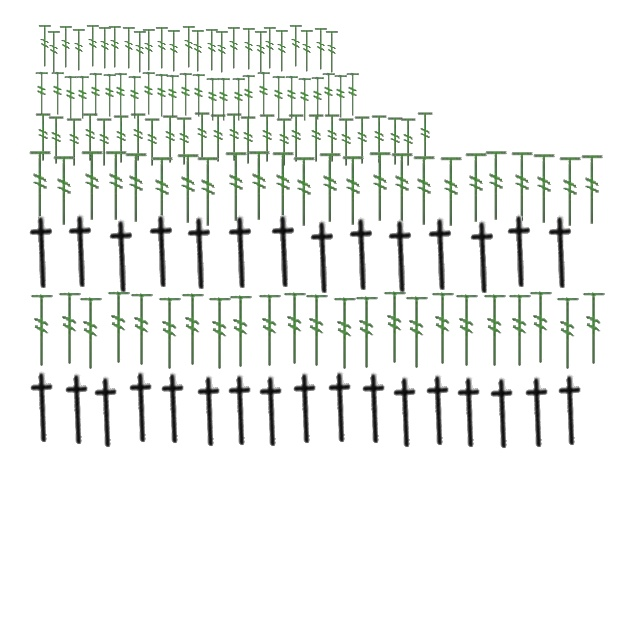enseble_chain: (60, 214, 104, 290), (302, 220, 346, 296), (462, 220, 506, 296), (220, 216, 264, 290), (380, 220, 424, 294), (420, 218, 464, 292), (540, 216, 584, 290), (142, 214, 184, 290), (180, 216, 222, 292), (264, 214, 306, 290), (500, 214, 542, 290), (22, 216, 64, 290), (102, 220, 144, 294), (342, 218, 384, 292), (86, 376, 128, 450), (153, 372, 195, 446), (220, 374, 262, 448), (285, 372, 327, 446), (354, 372, 396, 446), (385, 376, 427, 450), (418, 374, 460, 448), (449, 376, 491, 450), (517, 376, 559, 450), (550, 374, 592, 448), (22, 372, 64, 444), (57, 374, 99, 446), (121, 372, 163, 444), (189, 376, 231, 448), (251, 376, 293, 448), (320, 372, 362, 444), (482, 378, 524, 450)
fan: (77, 294, 105, 374), (105, 288, 133, 368), (128, 290, 156, 370), (156, 294, 184, 374), (179, 290, 207, 370), (206, 294, 234, 374), (227, 292, 255, 372), (331, 294, 359, 374), (381, 288, 409, 368), (527, 288, 555, 368), (554, 294, 582, 374), (28, 292, 56, 370), (56, 290, 84, 368), (256, 292, 284, 370), (281, 290, 309, 368), (303, 292, 331, 370), (353, 294, 381, 372), (403, 294, 431, 372), (429, 290, 457, 368), (453, 292, 481, 370), (481, 292, 509, 370), (506, 292, 534, 370), (580, 290, 608, 368), (270, 150, 298, 224), (340, 154, 368, 228), (246, 150, 274, 222), (438, 156, 466, 228), (52, 154, 78, 228), (176, 152, 202, 226), (224, 150, 250, 224), (368, 150, 394, 224), (412, 154, 438, 228), (510, 150, 536, 224), (532, 152, 558, 226), (28, 150, 54, 222), (80, 150, 106, 222), (104, 150, 130, 222), (124, 152, 150, 224), (150, 156, 176, 228), (196, 156, 222, 228), (292, 156, 318, 228), (318, 152, 344, 224), (390, 152, 416, 224), (464, 152, 490, 224), (484, 150, 510, 222), (558, 156, 584, 228), (580, 154, 606, 226), (34, 112, 54, 162), (112, 114, 132, 164), (258, 113, 278, 163), (370, 114, 390, 164), (386, 116, 406, 166), (416, 111, 436, 161), (48, 115, 66, 165), (66, 117, 84, 167), (82, 112, 100, 162), (96, 117, 114, 167), (130, 112, 148, 162), (144, 117, 162, 167), (162, 114, 180, 164), (176, 116, 194, 166), (194, 111, 212, 161), (210, 113, 228, 163), (226, 112, 244, 162), (240, 115, 258, 165), (276, 117, 294, 167), (288, 113, 306, 163), (308, 113, 326, 163), (324, 113, 342, 163), (338, 117, 356, 167), (354, 115, 372, 165), (400, 117, 418, 167), (37, 23, 53, 69), (46, 29, 62, 75), (58, 24, 74, 70), (71, 27, 87, 73), (85, 23, 101, 69), (97, 25, 113, 71), (107, 24, 123, 70), (121, 25, 137, 71), (132, 29, 148, 75), (141, 27, 157, 73), (154, 25, 170, 71), (166, 28, 182, 74), (181, 24, 197, 70), (190, 28, 206, 74), (204, 27, 220, 73), (214, 29, 230, 75), (226, 25, 242, 71), (241, 26, 257, 72), (253, 29, 269, 75), (262, 25, 278, 71), (274, 28, 290, 74), (288, 23, 304, 69), (299, 28, 315, 74), (313, 26, 329, 72), (324, 29, 340, 75), (88, 72, 104, 118), (178, 72, 194, 118), (310, 76, 326, 122), (34, 72, 50, 116), (50, 72, 66, 116), (102, 74, 118, 118), (154, 74, 170, 118), (216, 78, 232, 122), (256, 72, 272, 116), (284, 76, 300, 120), (114, 72, 128, 118), (166, 74, 180, 120), (242, 74, 256, 120), (322, 72, 336, 118), (334, 74, 348, 120), (346, 72, 360, 118), (64, 76, 78, 120), (76, 76, 90, 120), (128, 76, 142, 120), (142, 72, 156, 116), (192, 74, 206, 118), (206, 78, 220, 122), (232, 78, 246, 122), (272, 76, 286, 120), (298, 78, 312, 122)
